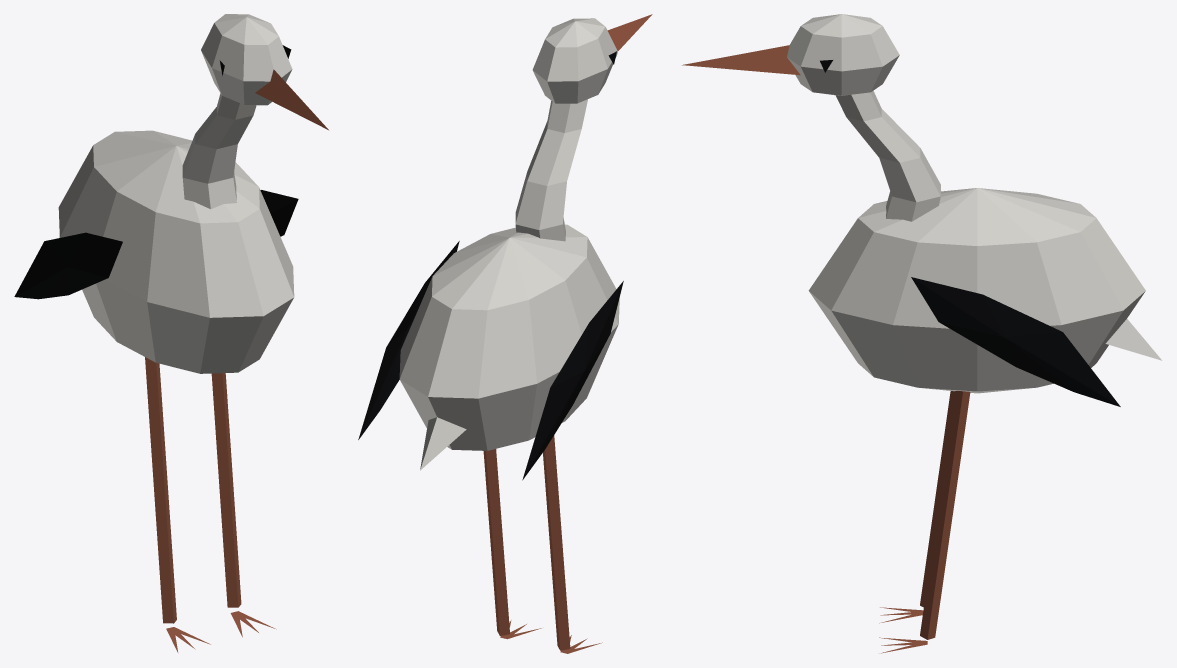
File: stork.glb
3 renders of one model, left to right at view 1: azimuth 30°, elevation 25°; view 2: azimuth 150°, elevation 25°; view 3: azimuth 270°, elevation 25°, orthographic. The views are drawn at different scales.
Parts seen in each view (by area): view 1: stork_body, stork_neck; view 2: stork_body, stork_neck; view 3: stork_body, stork_neck.
Boxes of the visible parts, bbox=[...] form: stork_body: bbox=[14, 130, 298, 652]; stork_neck: bbox=[182, 14, 328, 209]; stork_body: bbox=[358, 224, 623, 653]; stork_neck: bbox=[515, 14, 652, 241]; stork_body: bbox=[808, 188, 1162, 653]; stork_neck: bbox=[682, 14, 940, 221].
Bounding box in the file's own units: 0.1267 × 0.41 × 0.29.
